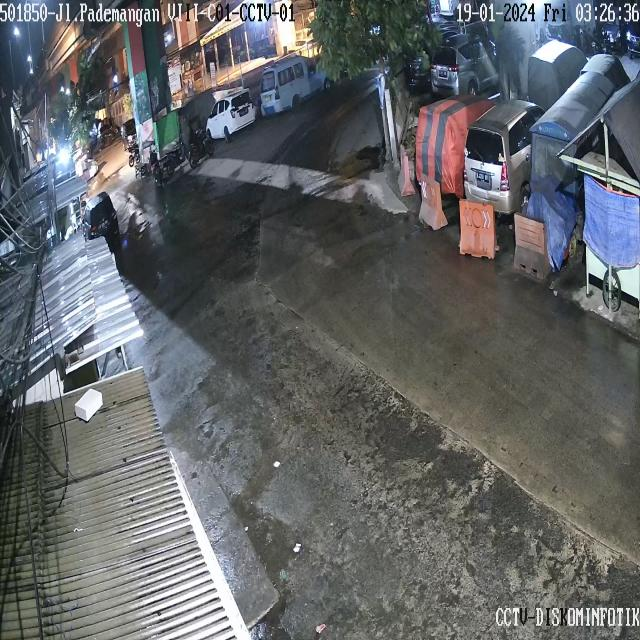Terpal: (576, 170, 640, 277), (409, 105, 463, 191)
